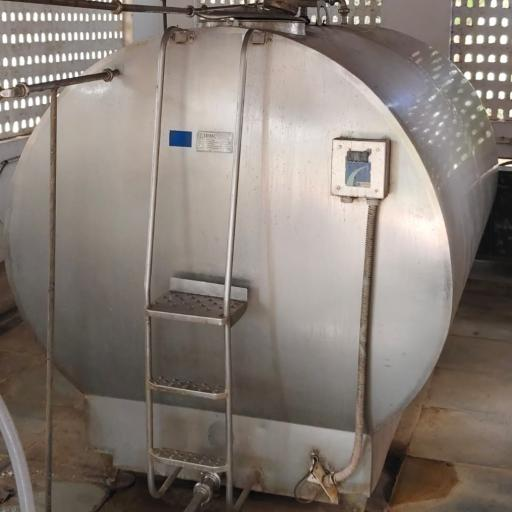silo: (6, 6, 502, 494)
